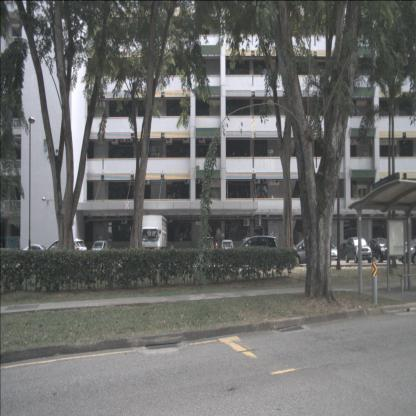human-pedestrian-adult: (170, 242, 175, 264), (215, 240, 218, 262)
vehicle-car: (228, 235, 277, 271), (38, 239, 87, 272), (290, 238, 327, 266), (365, 237, 396, 263), (345, 237, 372, 264), (21, 244, 56, 264), (92, 240, 112, 261), (335, 242, 355, 260), (405, 237, 415, 265), (325, 242, 339, 260), (222, 239, 234, 260)
vehicle-truck: (141, 214, 168, 259)
